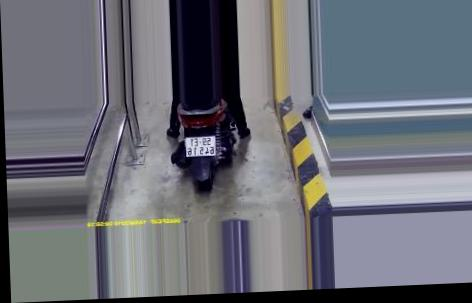License_Plate: (181, 132, 223, 161)
